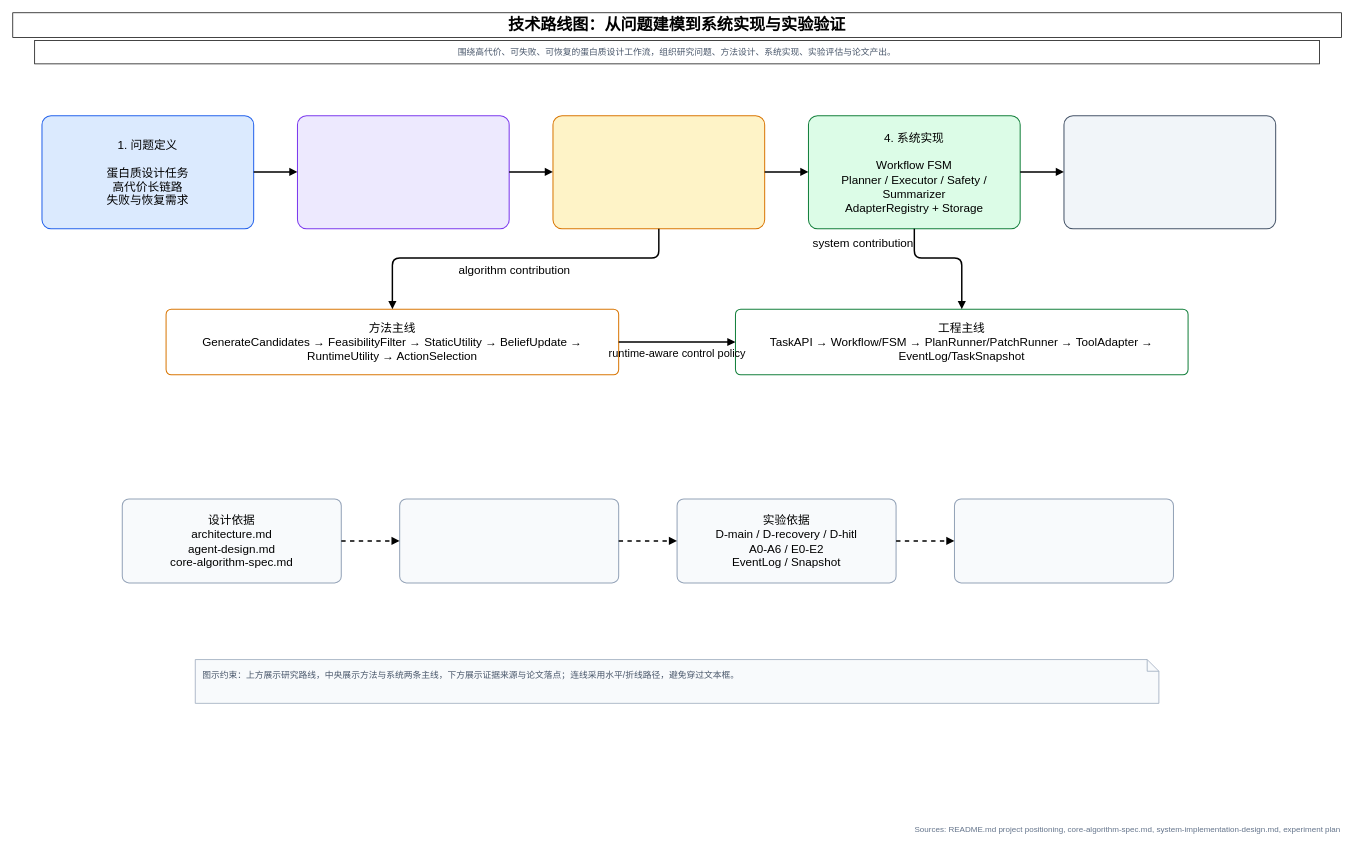
This 1354x855 diagram has some shape labels left out. Here are the shapes that lost their labels. From the top down, the centre of each, then its label:
point 403,172: 2. 理论建模 候选工具链集合 Π 约束 C / ToolKG K history h_t / observation o_t
point 658,172: 3. 核心算法 Top-K 候选生成 硬可行性过滤 静态效用 + runtime rerank
point 1169,172: 5. 实验验证 纵向 A0-A6 横向 E0-E2 效果 / 成本 / 治理指标
point 509,540: 实现依据 src/workflow src/agents src/models src/adapters
point 1064,540: 论文产出 系统架构 算法机制 实验结果 案例分析
